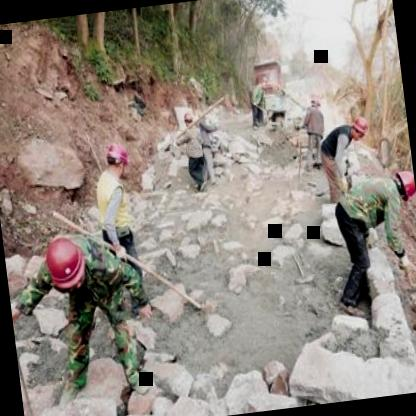helmet: (38, 233, 89, 296), (102, 138, 133, 180), (387, 165, 416, 200), (348, 111, 370, 144)
